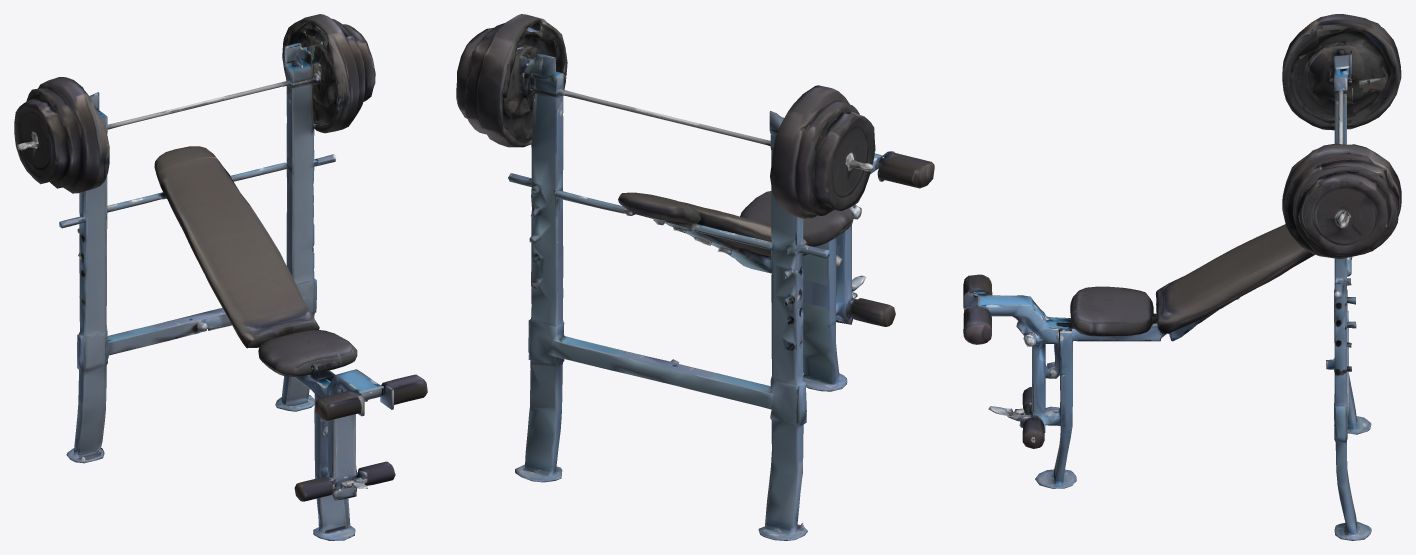
The model's file is Weight_Bench_Setup_0602103351_texture.glb.
3 renders of one model, left to right at view 1: azimuth 30°, elevation 25°; view 2: azimuth 150°, elevation 25°; view 3: azimuth 270°, elevation 25°, orthographic. The views are drawn at different scales.
Bounding box in the file's own units: 1.94 × 2 × 2.
1 material, 1 textured.
